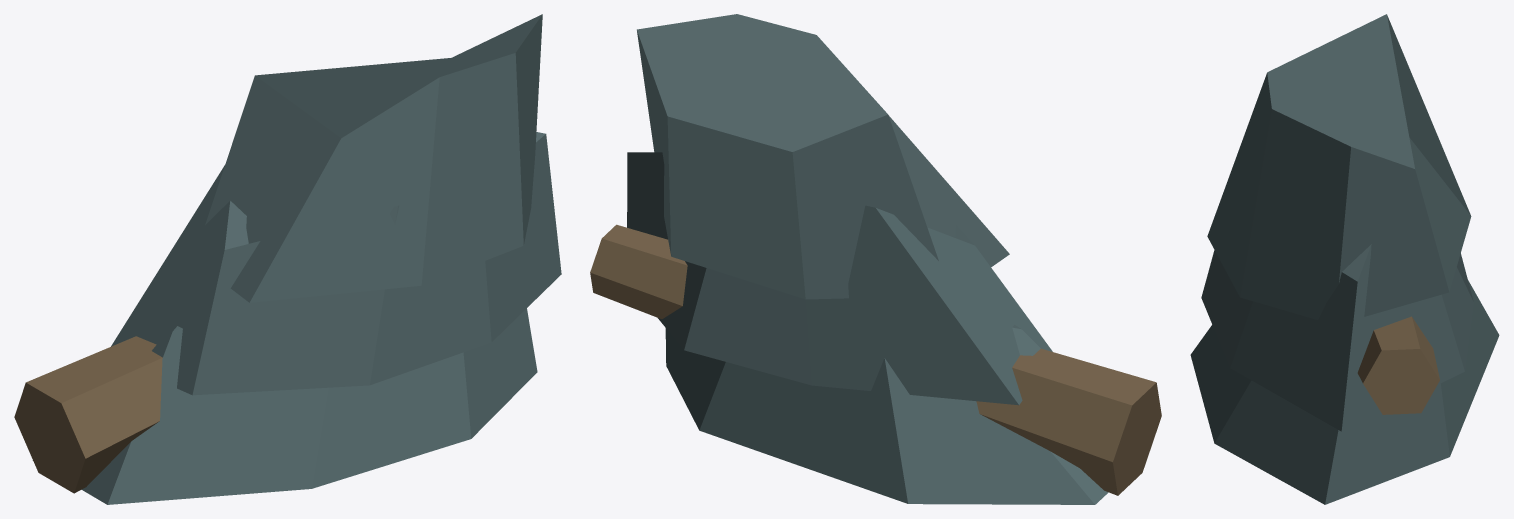
File: map-boundaries-v5__ridge_12.glb
3 renders of one model, left to right at view 1: azimuth 30°, elevation 25°; view 2: azimuth 150°, elevation 25°; view 3: azimuth 270°, elevation 25°, orthographic. The views are drawn at different scales.
Parts seen in each view (by area): view 1: ridge_12; view 2: ridge_12; view 3: ridge_12.
Part boxes in pixels (left/top/right/bottom): ridge_12: left=14, top=14, right=561, bottom=504; ridge_12: left=590, top=14, right=1161, bottom=504; ridge_12: left=1190, top=14, right=1499, bottom=504.
Size of the model in its own units: 1.49 by 0.9517 by 0.7172.
